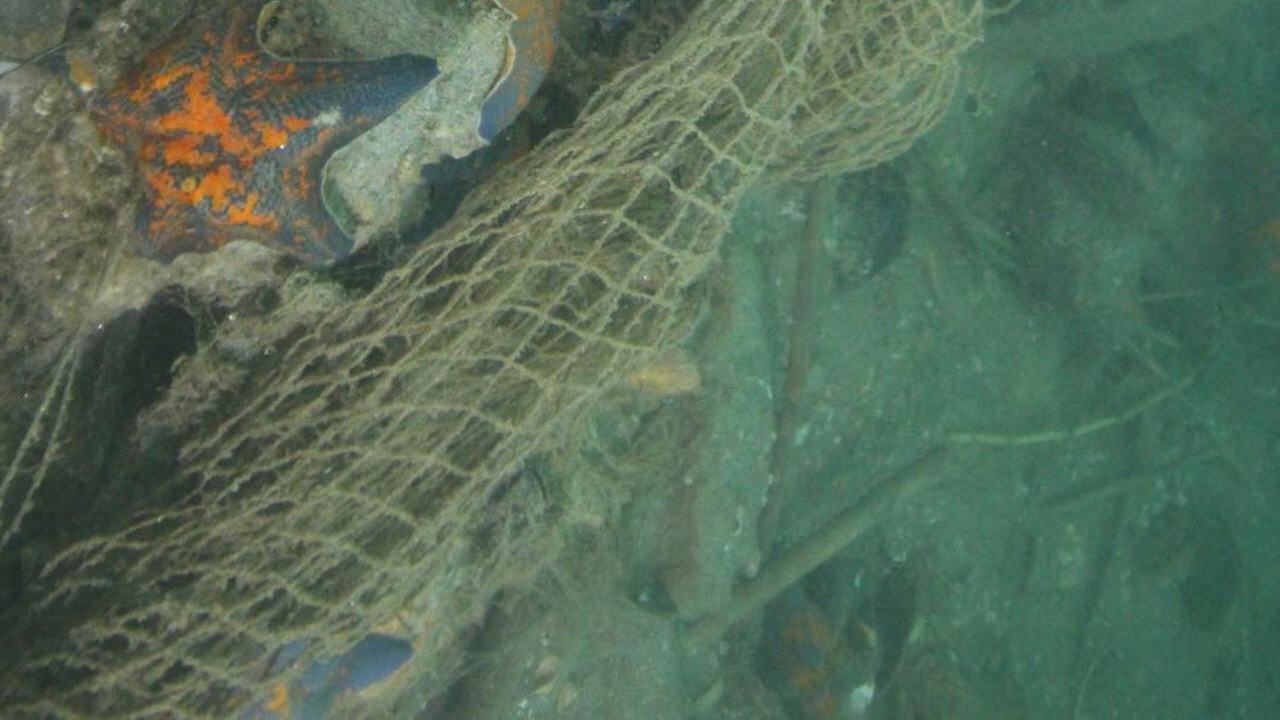fish net: (0, 0, 1020, 720)
